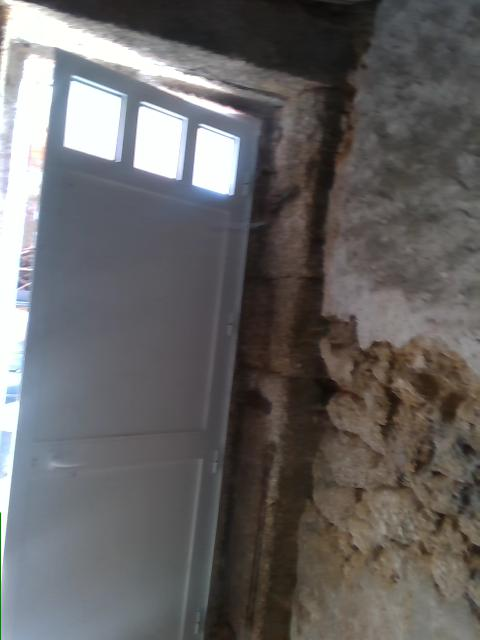door: (0, 40, 265, 639)
